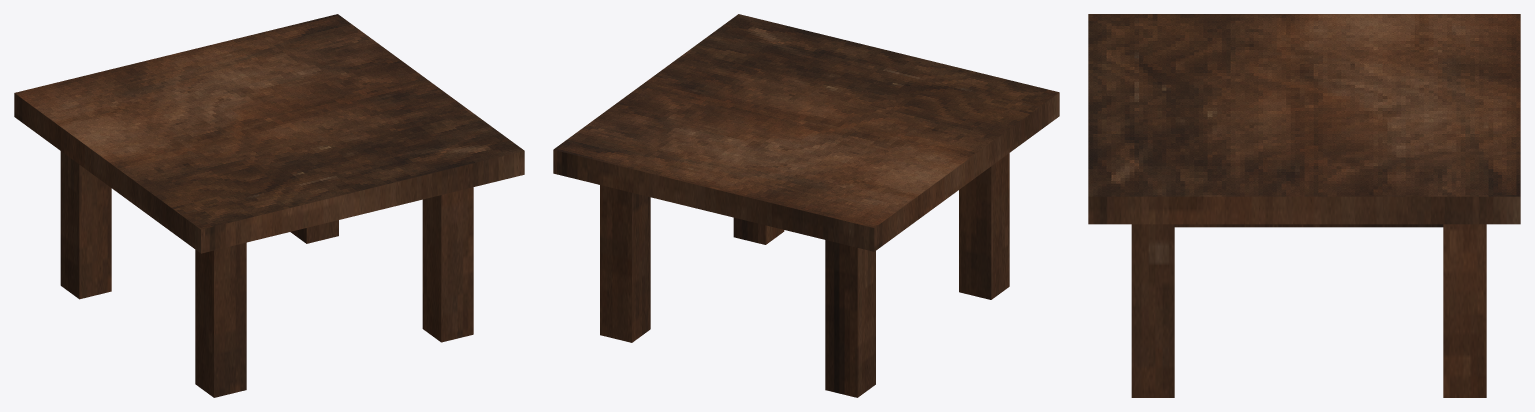
Rendered from table.glb.
3 renders of one model, left to right at view 1: azimuth 30°, elevation 25°; view 2: azimuth 150°, elevation 25°; view 3: azimuth 270°, elevation 25°, orthographic. The views are drawn at different scales.
Parts seen in each view (by area): view 1: env_table-col; view 2: env_table-col; view 3: env_table-col.
Part boxes in pixels (x1,y1,x2,y2): env_table-col: (14,14,524,397); env_table-col: (553,14,1059,397); env_table-col: (1088,14,1520,397).
Bounding box in the file's own units: 2 × 1.12 × 2.
1 material, 1 textured.
